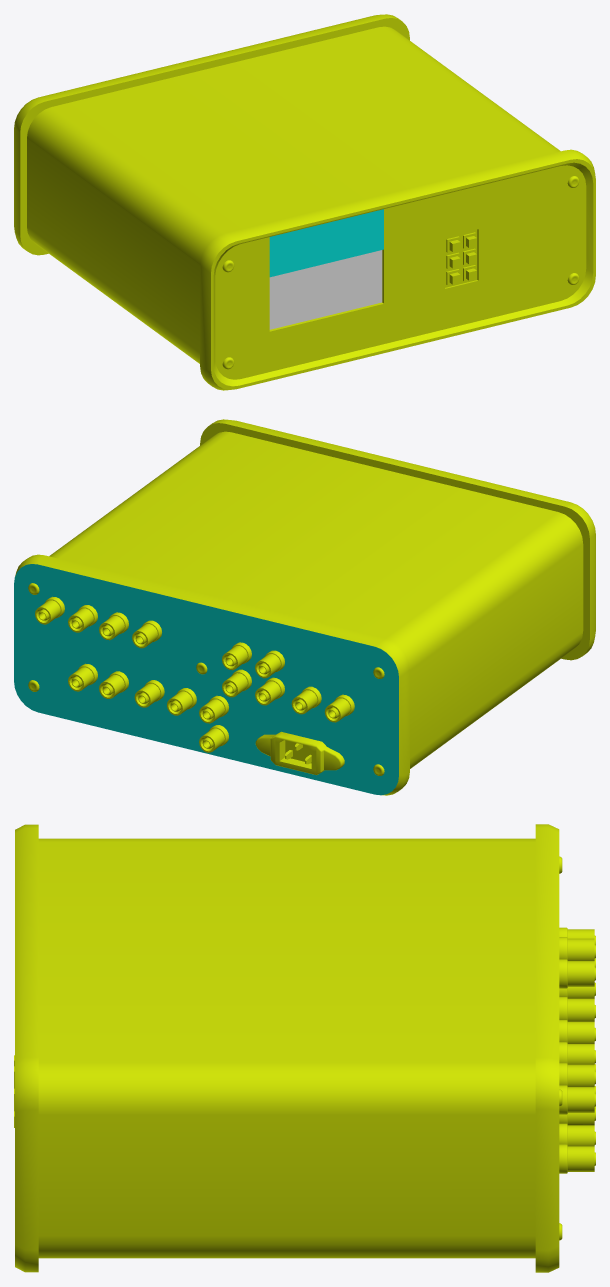
3 renders of one model, top to bottom at view 1: azimuth 30°, elevation 25°; view 2: azimuth 150°, elevation 25°; view 3: azimuth 270°, elevation 25°, orthographic. The views are drawn at different scales.
Parts seen in each view (by area): view 1: body, screen 2.203:1; view 2: body, Cube.018, Cylinder.003, Cylinder.004, Cylinder.002, Cylinder.005, Cylinder.012, Cylinder, Cylinder.008, Cylinder.010, Cylinder.007, Cylinder.015 (+6 smaller); view 3: body, Cylinder.010, Cylinder.001, Cylinder.007, Cylinder.003, Cylinder, Cylinder.006, Cylinder.008, Cylinder.011, Cylinder.009.
Part boxes in pixels (x1,y1,x2,y2): body: [14, 14, 595, 390]; screen 2.203:1: [269, 250, 382, 329]; body: [14, 419, 595, 795]; Cube.018: [255, 731, 344, 775]; Cylinder.003: [222, 669, 251, 697]; Cylinder.004: [324, 694, 354, 722]; Cylinder.002: [255, 677, 284, 705]; Cylinder.005: [291, 686, 321, 714]; Cylinder.012: [134, 680, 164, 707]; Cylinder: [255, 650, 284, 678]; Cylinder.008: [132, 620, 161, 648]; Cylinder.010: [68, 663, 97, 691]; Cylinder.007: [35, 596, 64, 624]; Cylinder.015: [199, 695, 228, 723]; body: [15, 824, 559, 1272]; Cylinder.010: [559, 1144, 595, 1173]; Cylinder.001: [559, 959, 595, 988]; Cylinder.007: [559, 1085, 595, 1114]; Cylinder.003: [559, 997, 595, 1021]; Cylinder: [559, 937, 595, 960]; Cylinder.006: [559, 1063, 595, 1086]; Cylinder.008: [559, 1020, 595, 1043]; Cylinder.011: [559, 1123, 595, 1146]; Cylinder.009: [559, 1042, 595, 1064].
Bounding box in the file's own units: 800 × 300 × 749.
